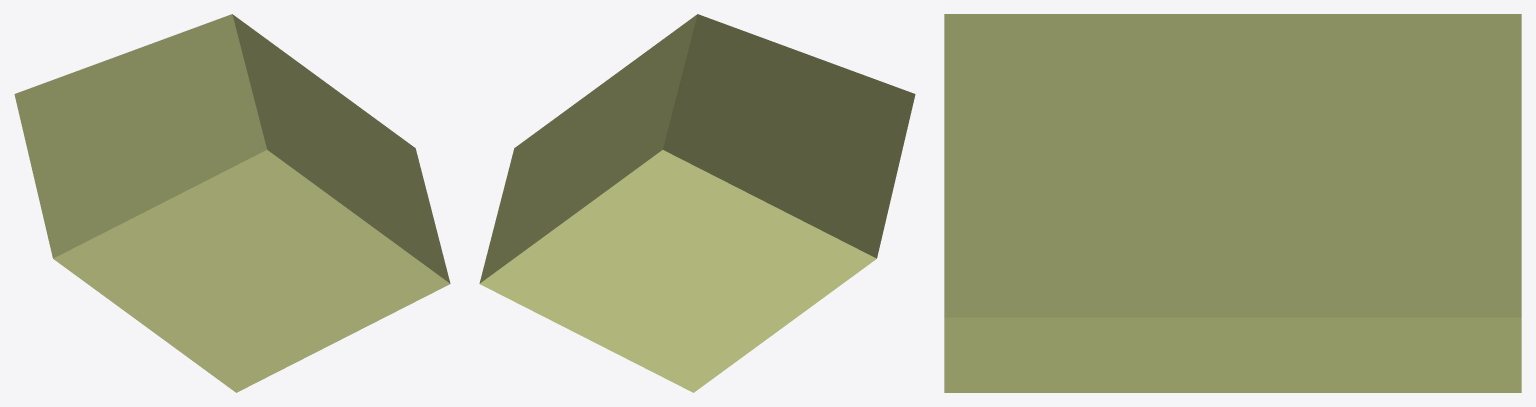
3 renders of one model, left to right at view 1: azimuth 30°, elevation 25°; view 2: azimuth 150°, elevation 25°; view 3: azimuth 270°, elevation 25°, orthographic. The views are drawn at different scales.
Visible parts, largest first — view 1: 0_1_2_0_3_3_1_3_1_3; view 2: 0_1_2_0_3_3_1_3_1_3; view 3: 0_1_2_0_3_3_1_3_1_3.
Boxes of the visible parts, x1,y1,x2,y2 form: 0_1_2_0_3_3_1_3_1_3: [14, 14, 450, 392]; 0_1_2_0_3_3_1_3_1_3: [479, 14, 915, 392]; 0_1_2_0_3_3_1_3_1_3: [944, 14, 1521, 392].
Size of the model in its own units: 7.16 by 5.44 by 9.
